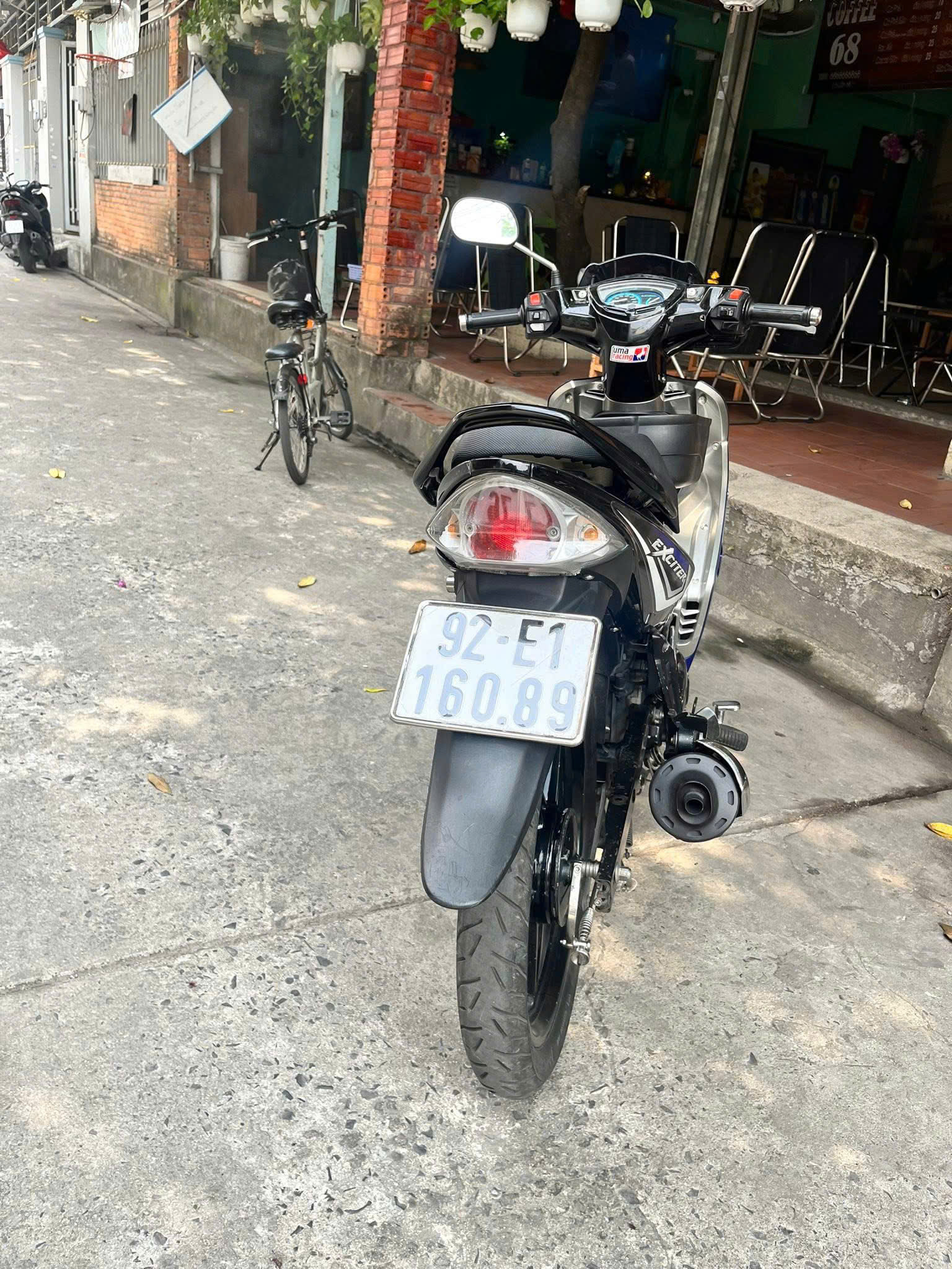Bien-so: (394, 599, 599, 747)
